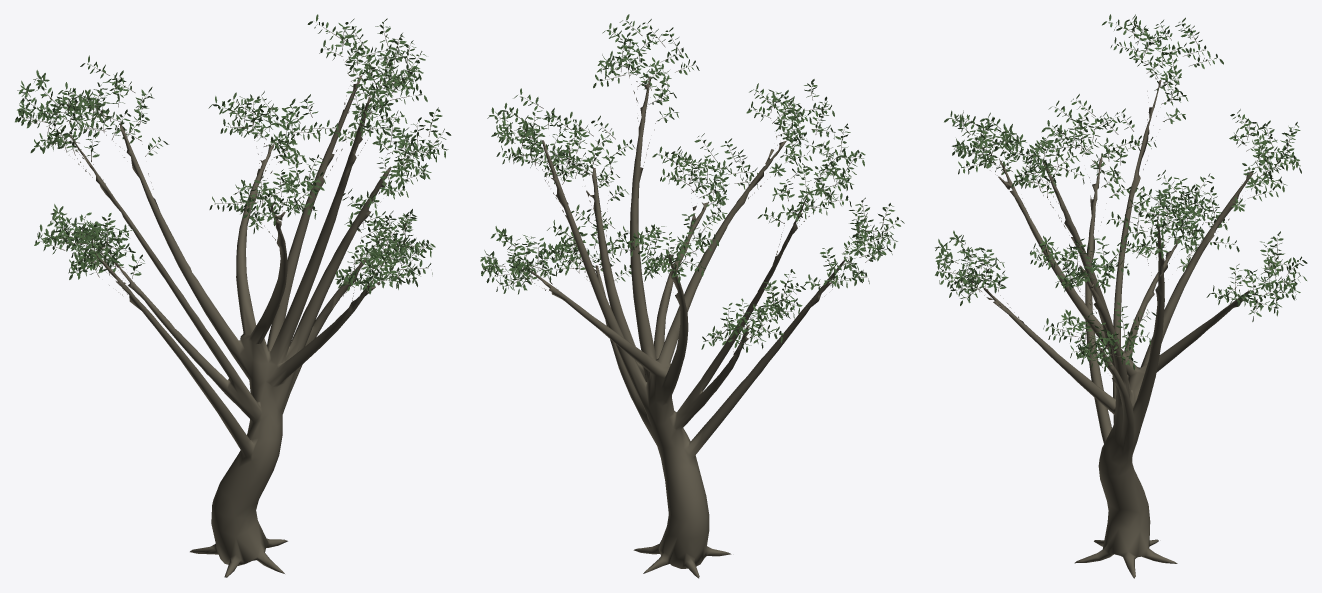
Rendered from CheneVert_1_Niveau0.fbx.
The picture shows the model from 3 angles, left to right: view 1: azimuth 30°, elevation 25°; view 2: azimuth 150°, elevation 25°; view 3: azimuth 270°, elevation 25°; orthographic projection. The views are drawn at different scales.
Parts seen in each view (by area): view 1: CheneVert_1_Niveau0_Jeu; view 2: CheneVert_1_Niveau0_Jeu; view 3: CheneVert_1_Niveau0_Jeu.
Part boxes in pixels (box(x1,y1,x2,y2)): CheneVert_1_Niveau0_Jeu: box(15, 14, 451, 577); CheneVert_1_Niveau0_Jeu: box(480, 14, 904, 578); CheneVert_1_Niveau0_Jeu: box(935, 14, 1307, 578).
Bounding box in the file's own units: 465 × 589 × 417.
